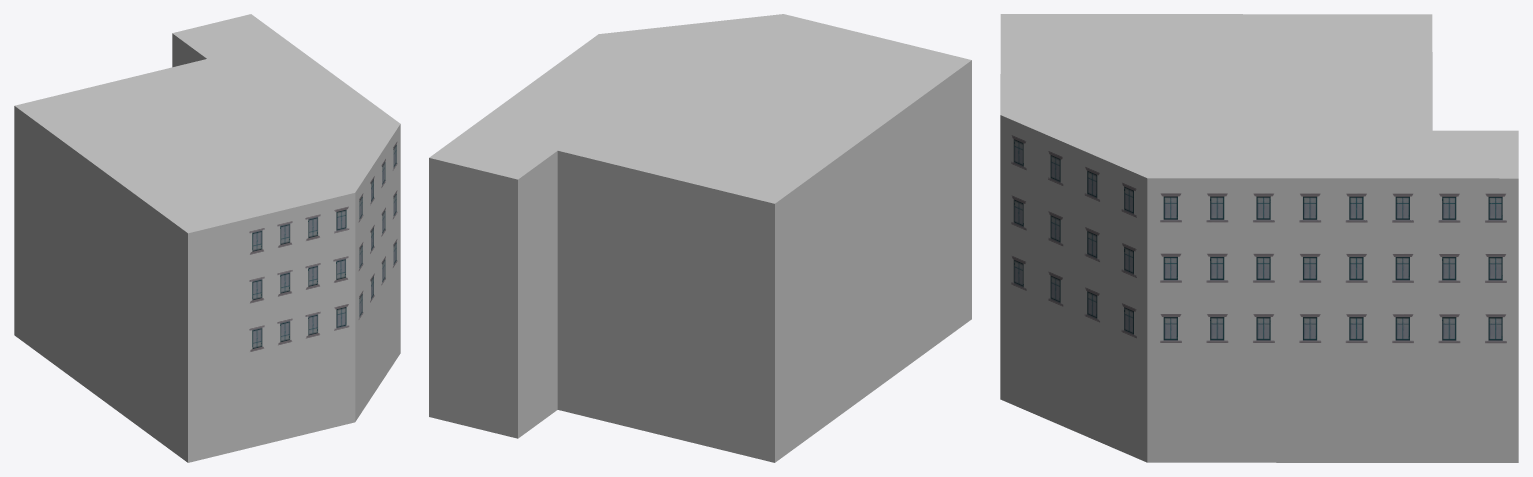
File: 111StationFix02.fbx
3 views of the same model, side by side, from view 1: azimuth 30°, elevation 25°; view 2: azimuth 150°, elevation 25°; view 3: azimuth 270°, elevation 25° (orthographic). The views are drawn at different scales.
Parts seen in each view (by area): view 1: Cube.421; view 2: Cube.421; view 3: Cube.421.
Part boxes in pixels (bbox=[...]): Cube.421: bbox=[14, 14, 400, 462]; Cube.421: bbox=[429, 14, 971, 462]; Cube.421: bbox=[1000, 14, 1518, 462].
Bounding box in the file's own units: 12.07 × 9.73 × 16.07.
